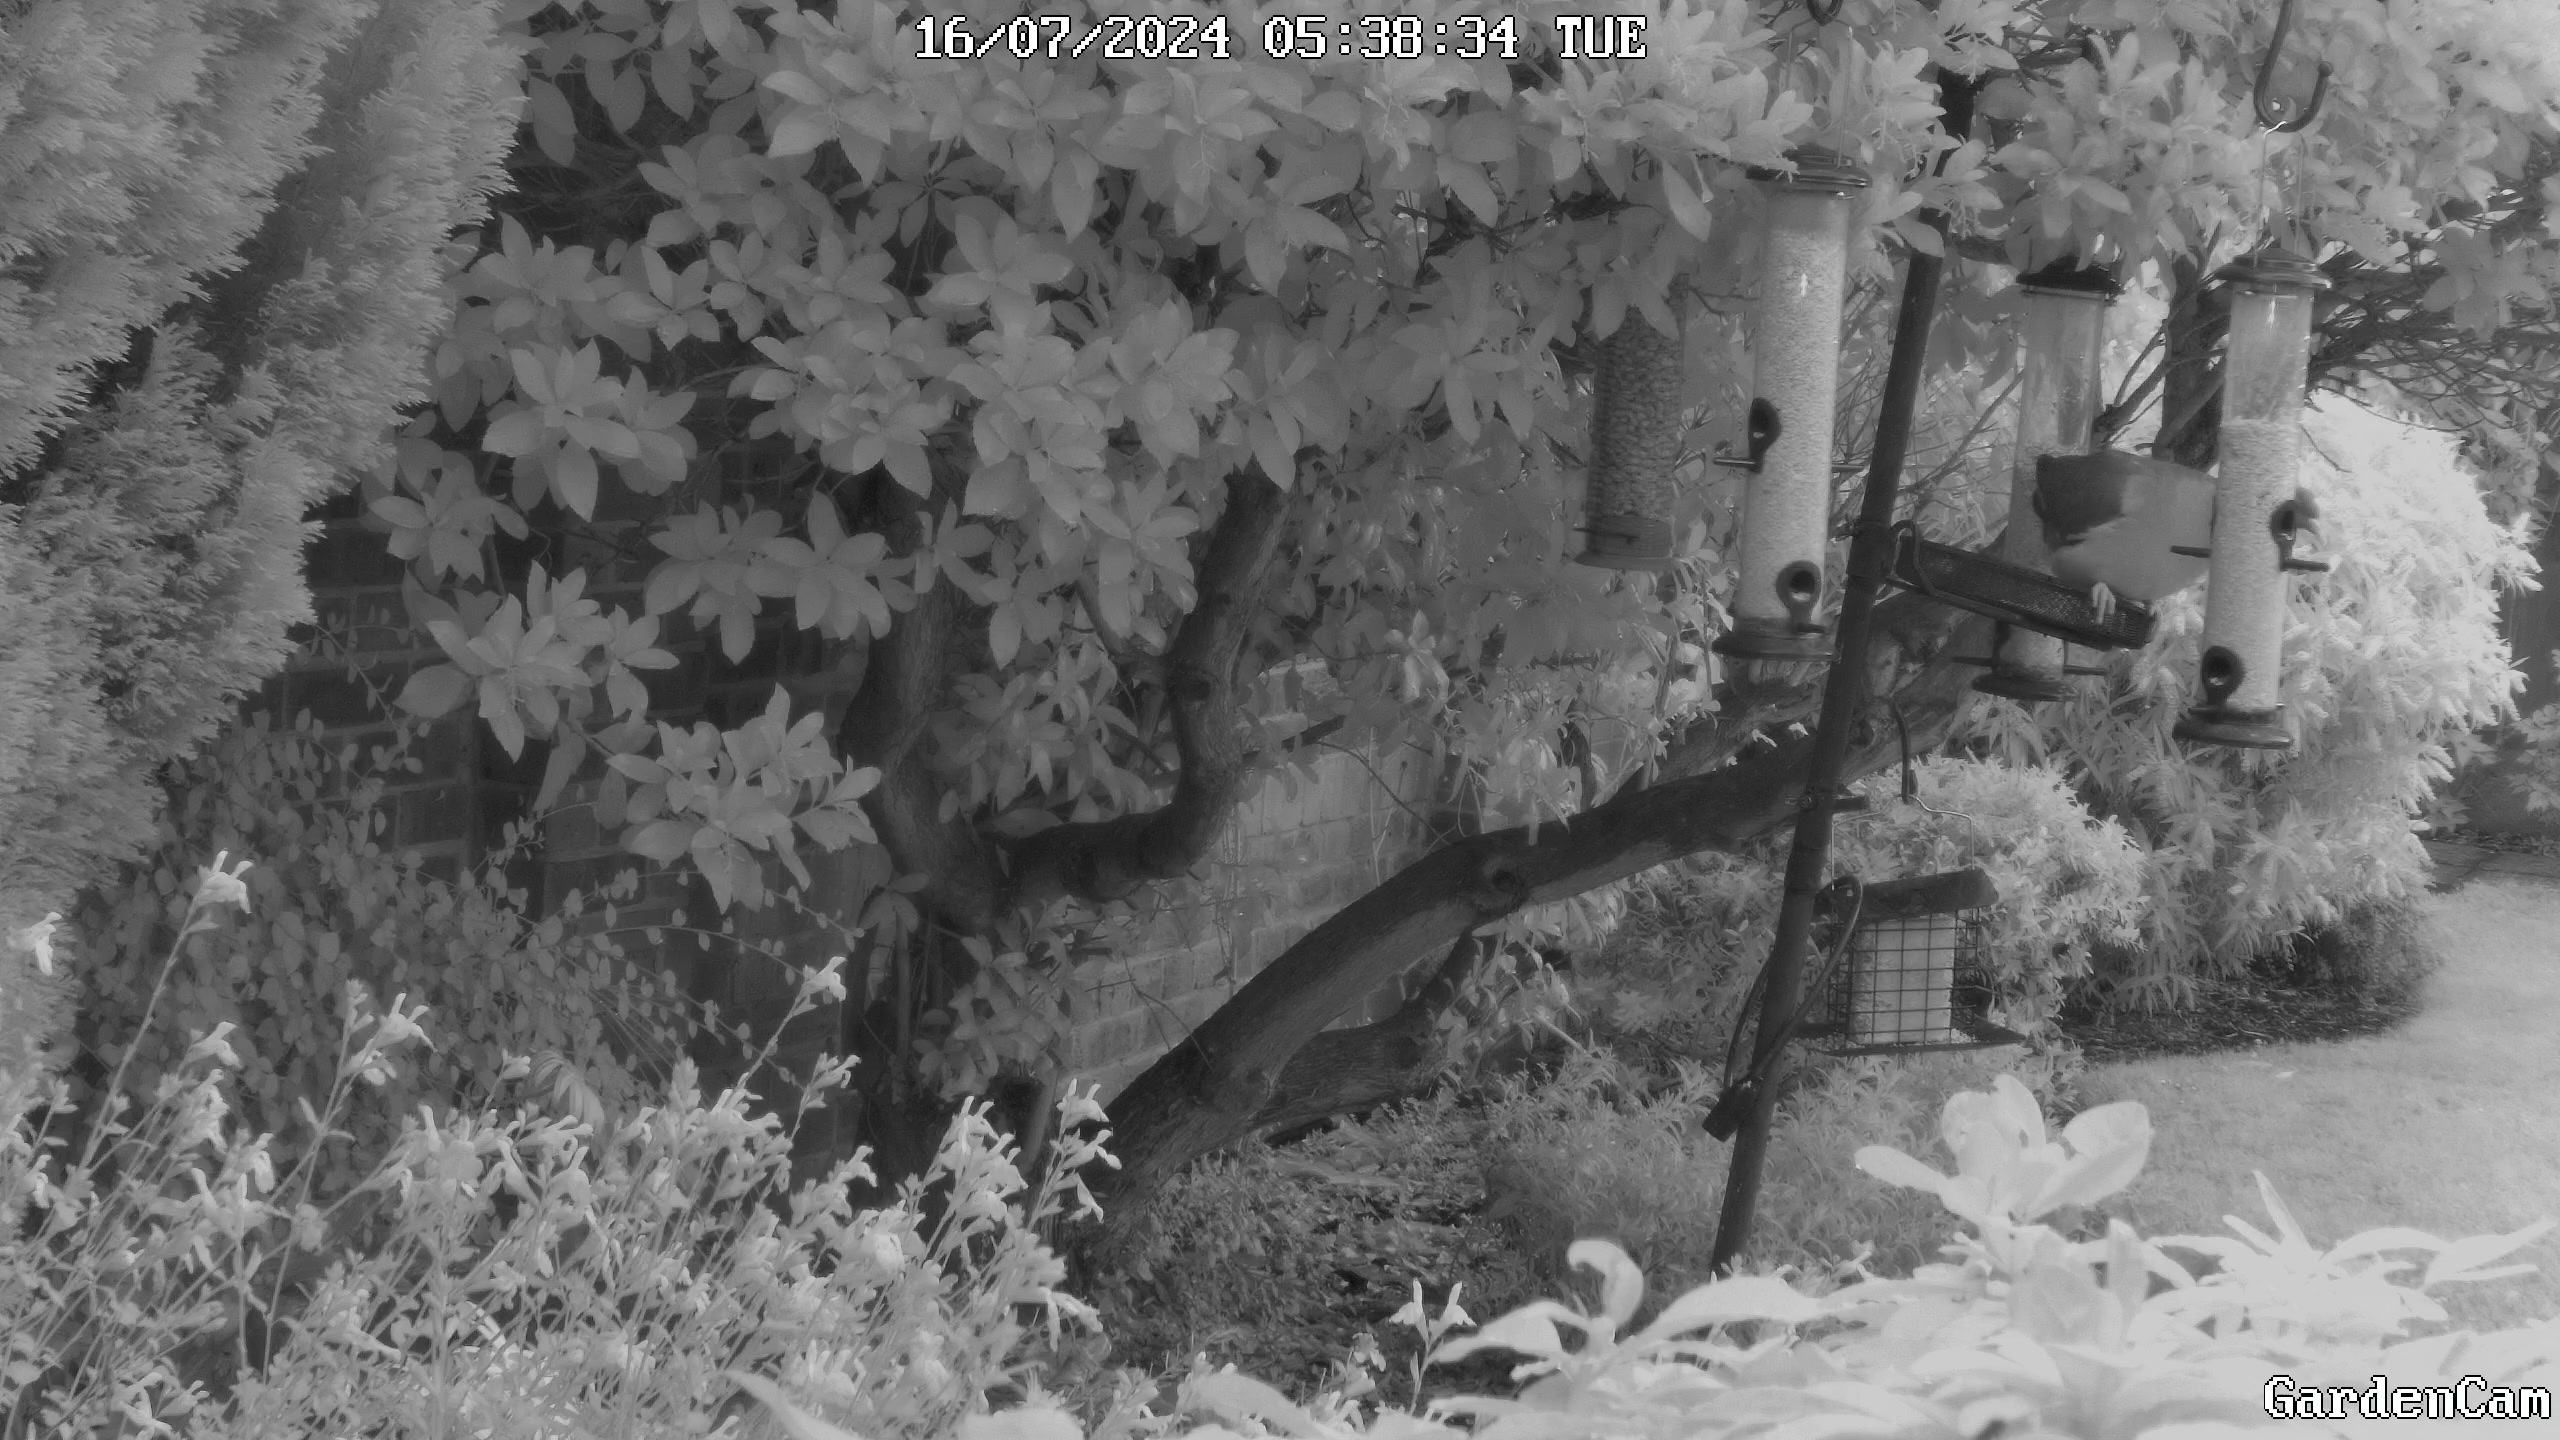Wood_Pigeon: (2011, 418, 2279, 638)
